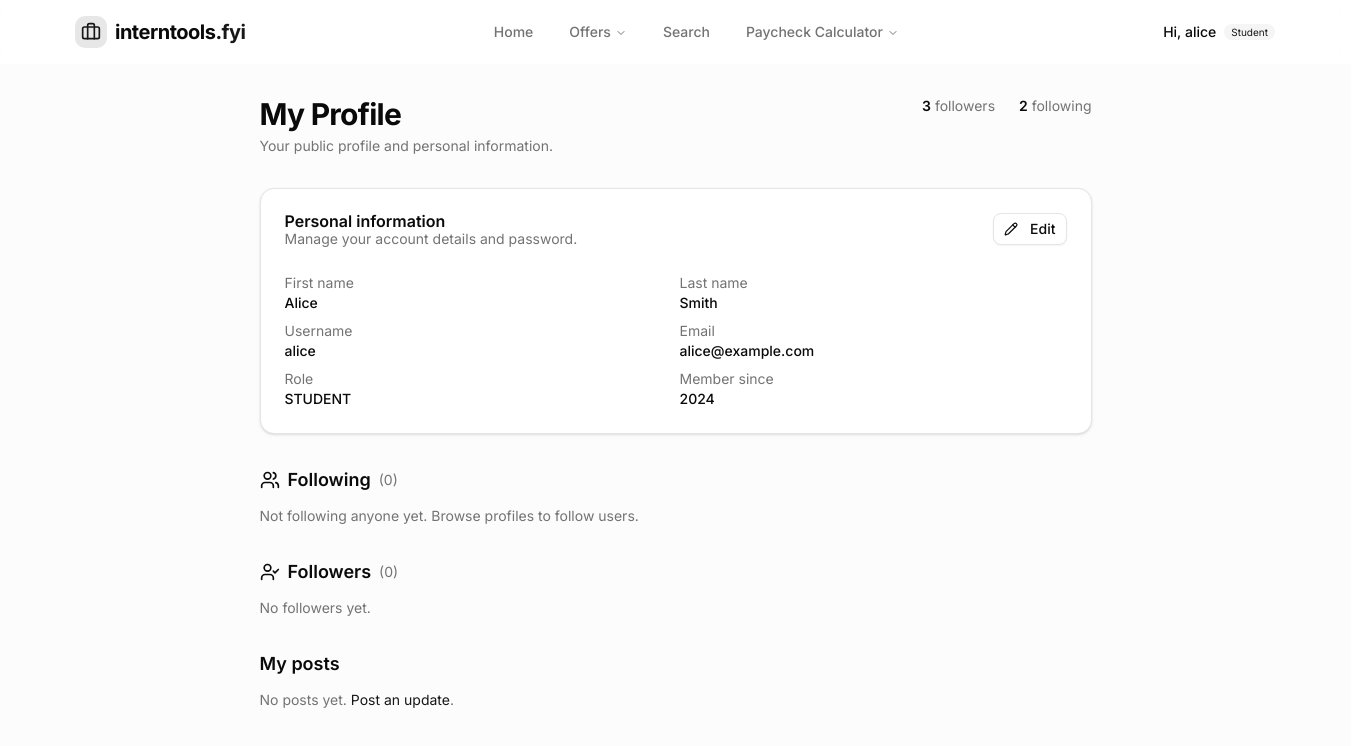
/profile page › shows error when new passwords do not match
Click the button "Edit": (1030, 229) [993,213,1066,245]
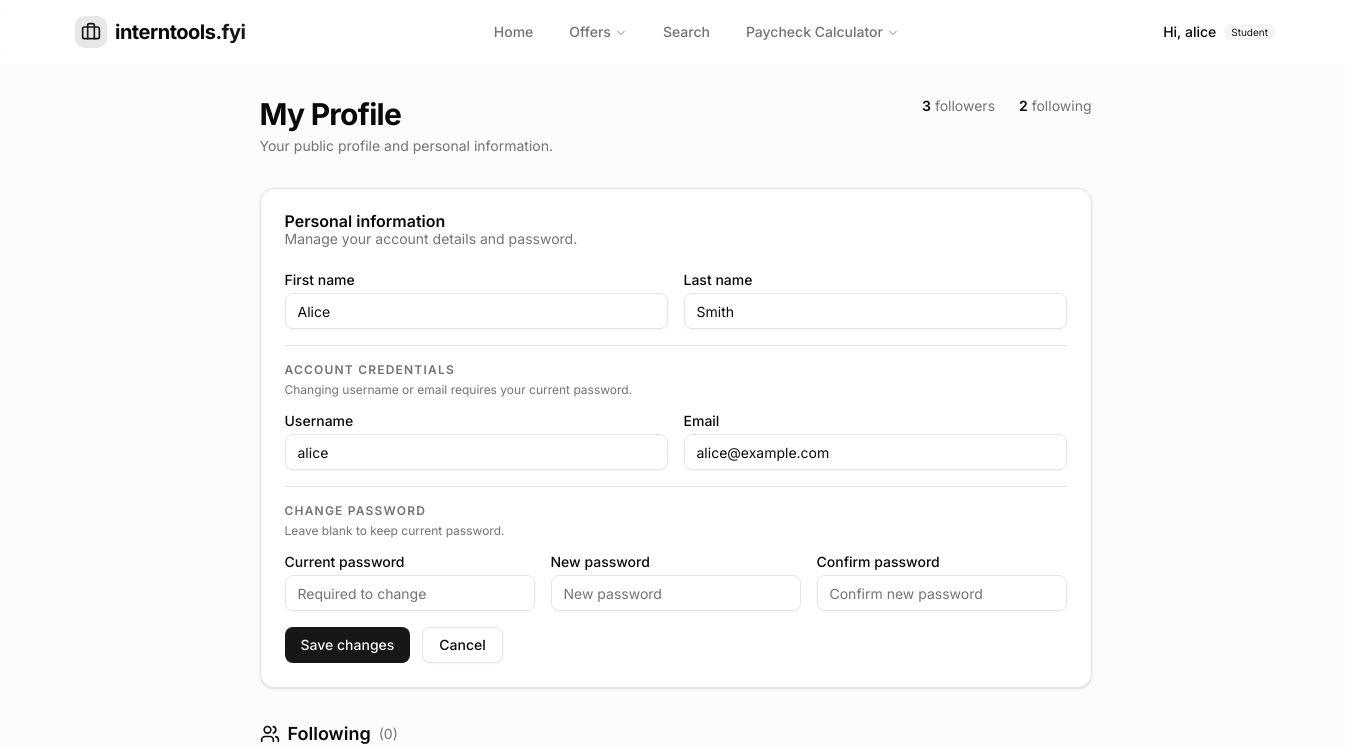
In the password field labelled "New password": (676, 593) [550,575,800,611], type "newpass1"
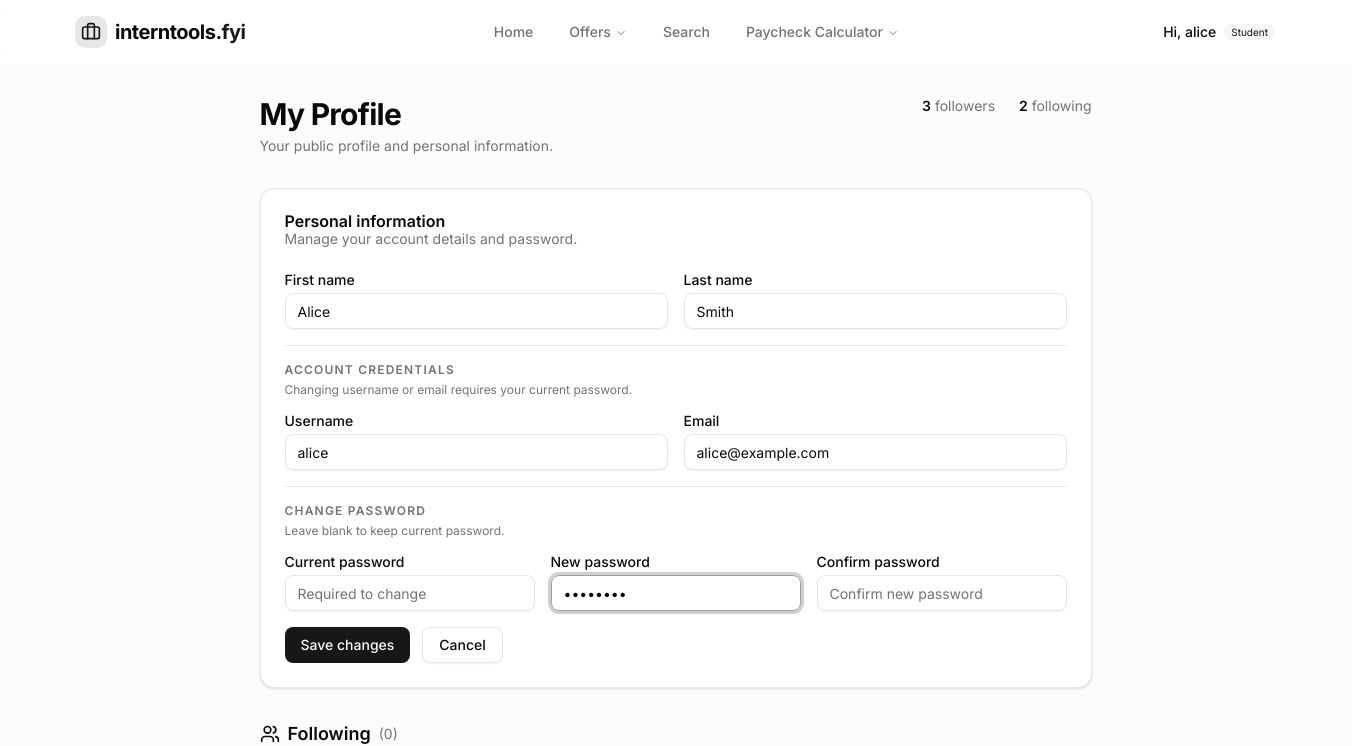
In the password field labelled "Confirm password": (942, 593) [816,575,1066,611], type "different"
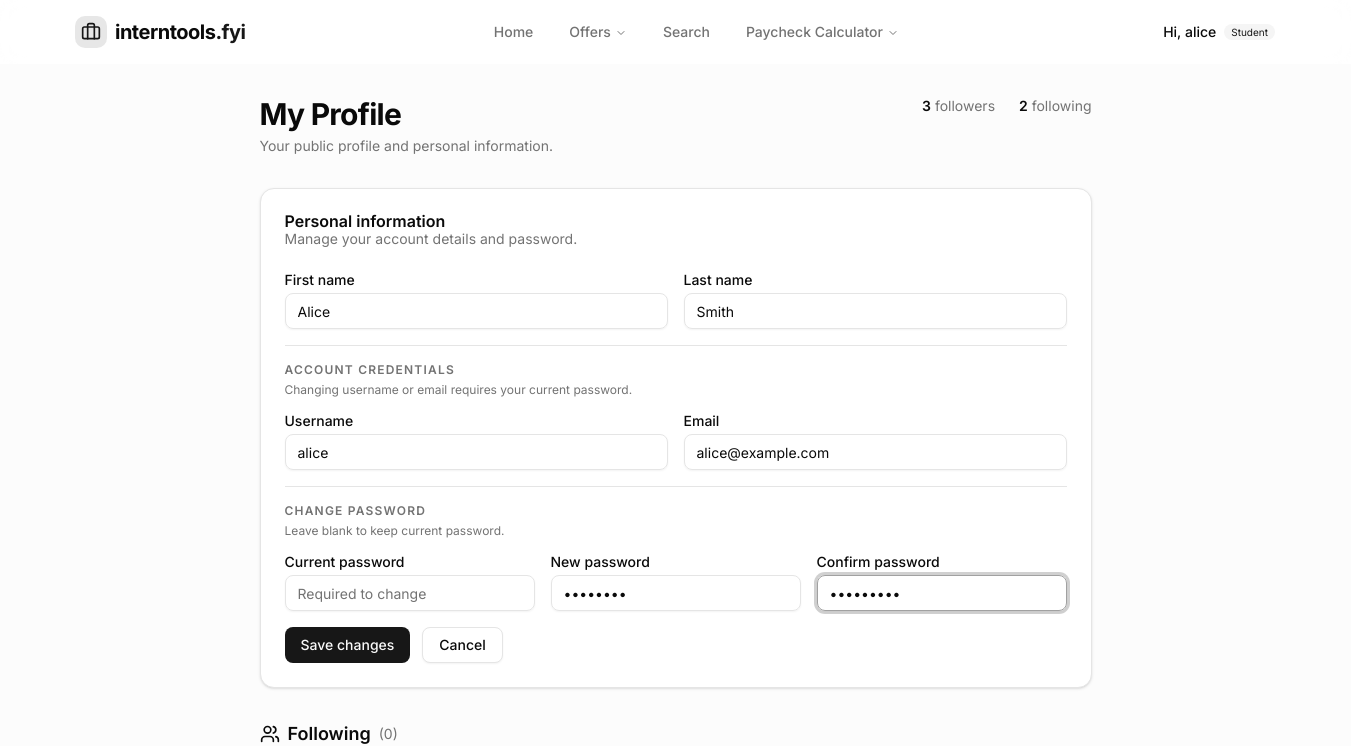
Click the button "Save changes": (347, 645) [284,627,410,663]
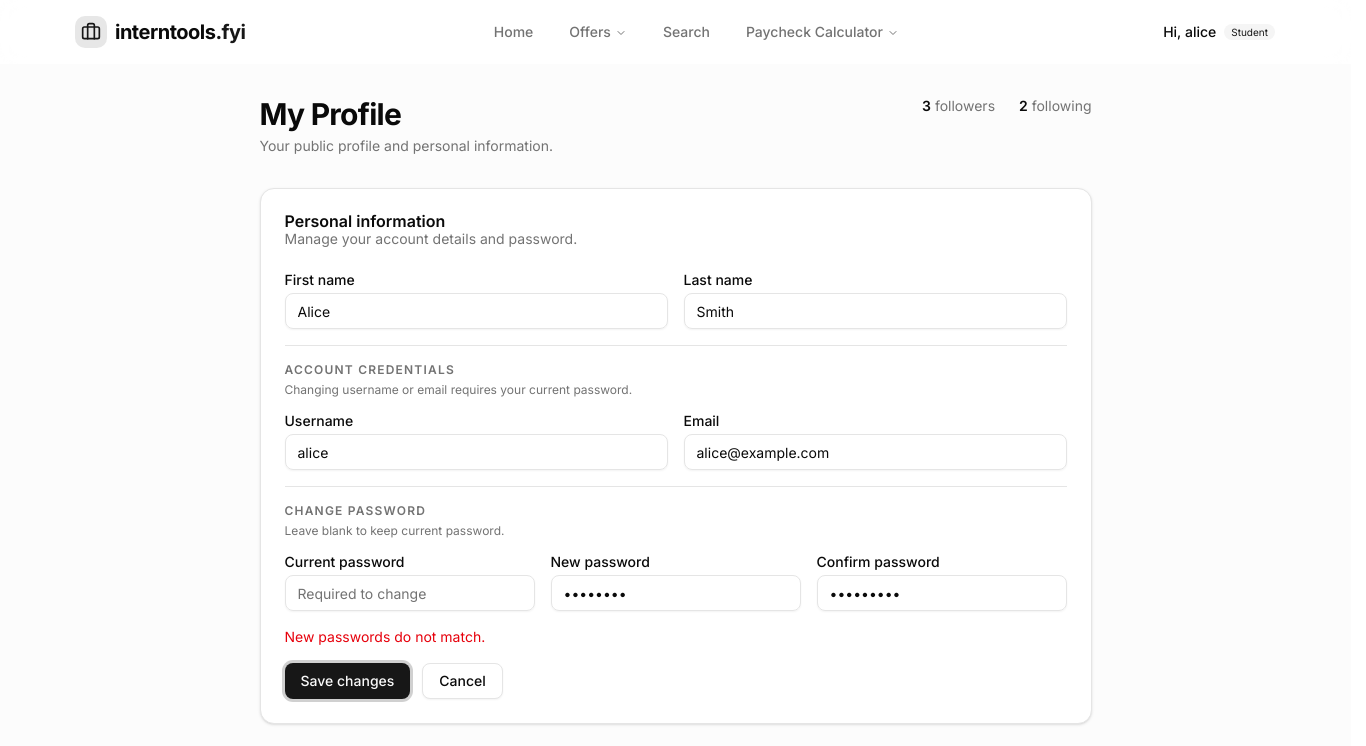
expect the text "New passwords do not match." is shown: met, box [284,628,485,645]
